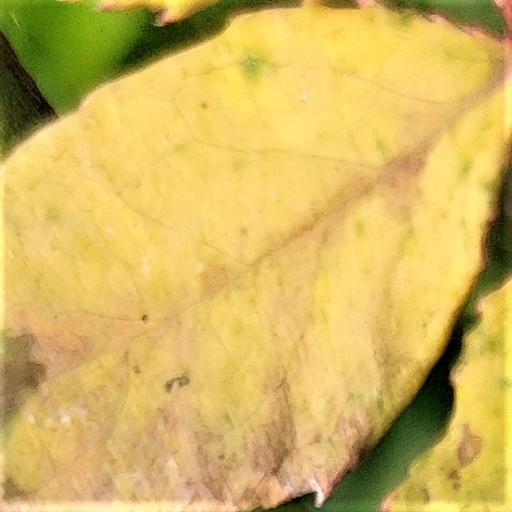red_mite: (1, 5, 511, 511)
